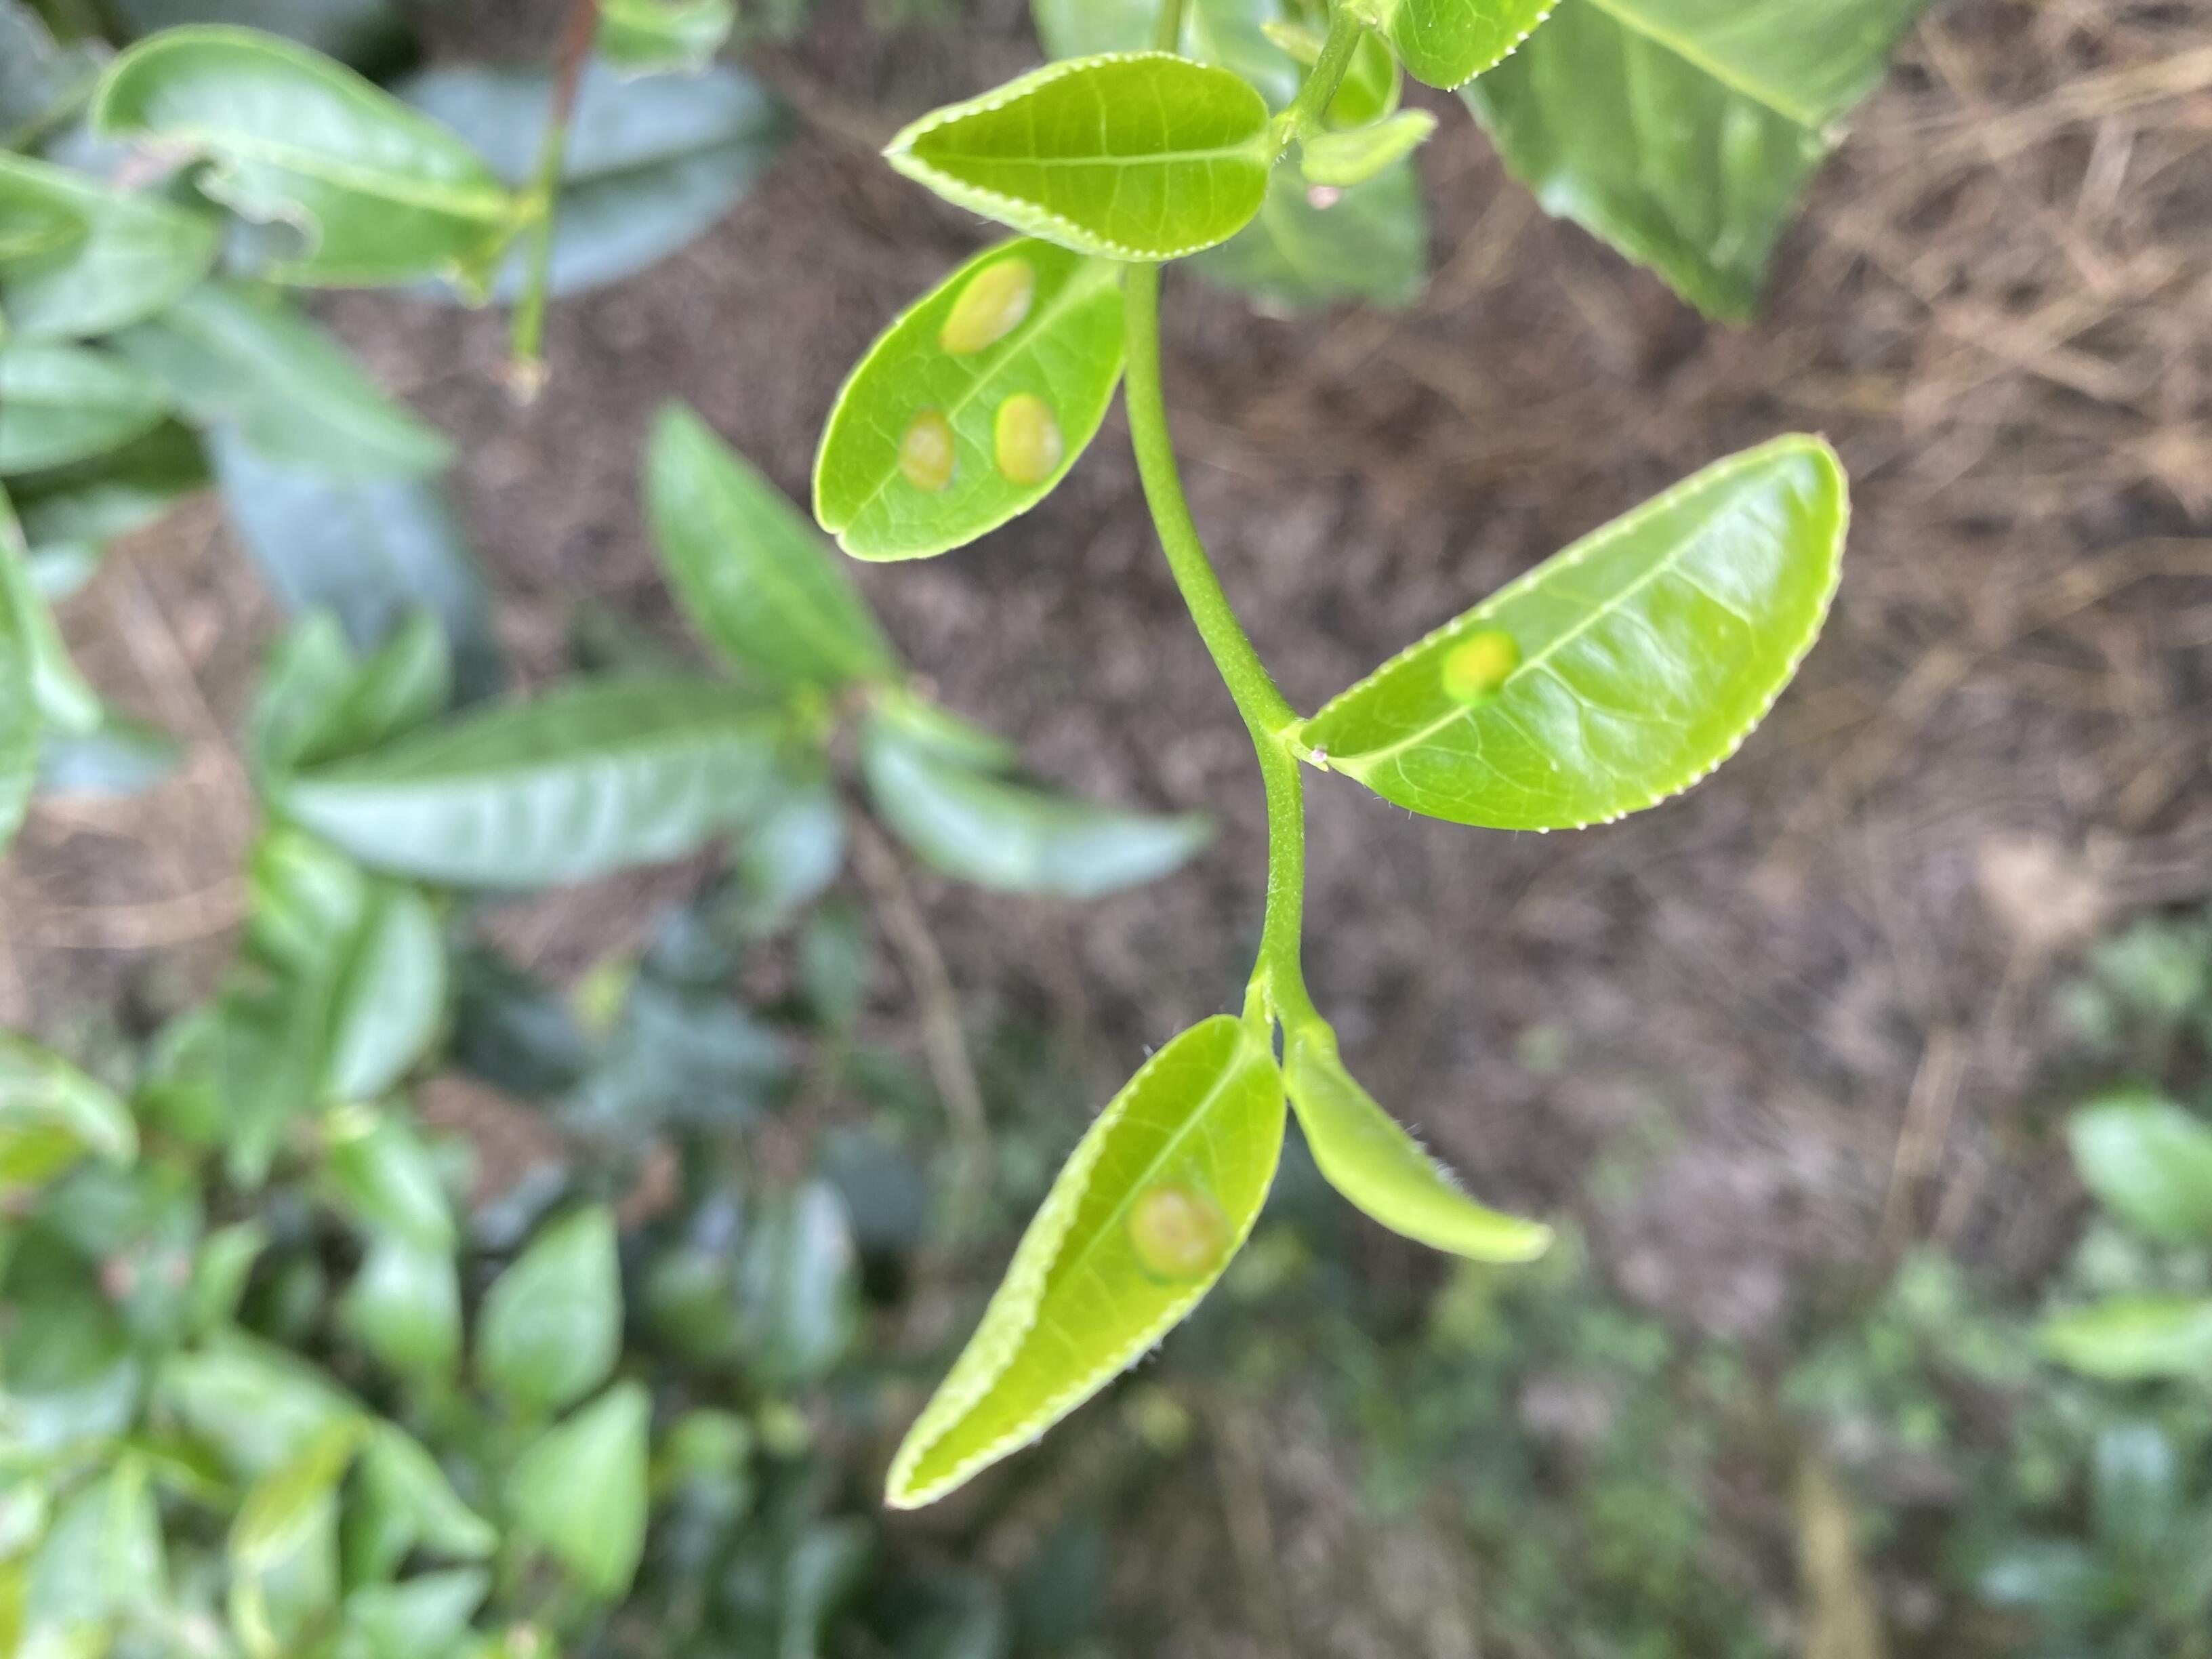chabing_high: (812, 237, 1129, 559)
chabing_low: (1305, 436, 1850, 831), (885, 1012, 1292, 1509)
healthy: (887, 51, 1280, 263)
